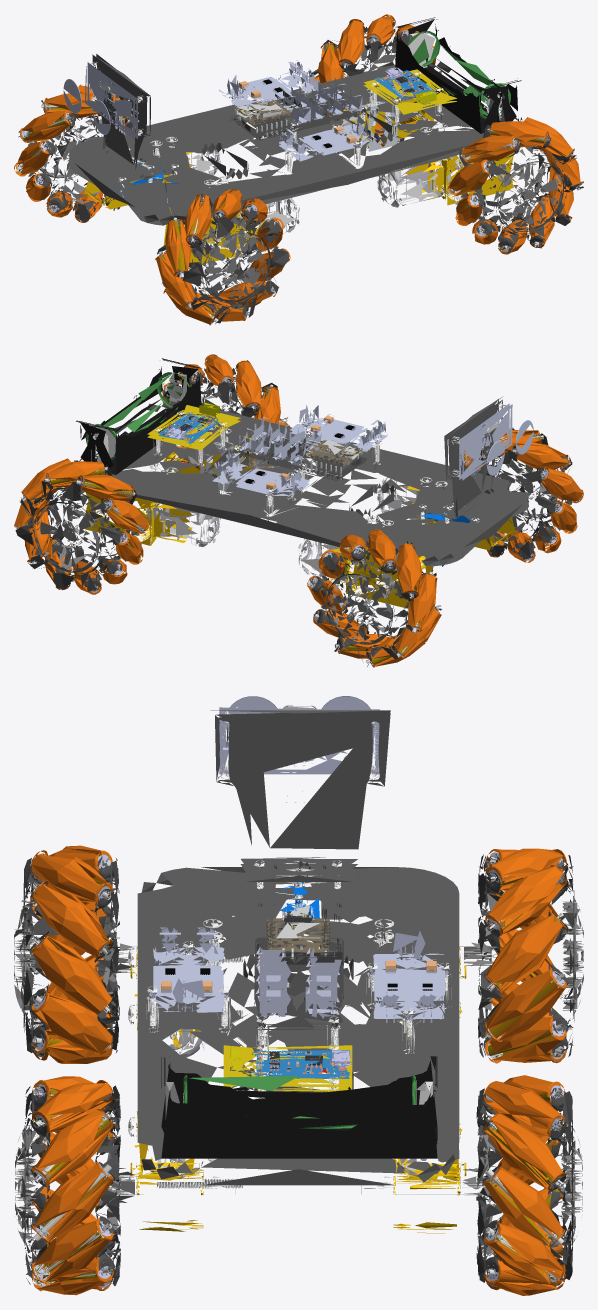
File: robot-low.glb
The picture shows the model from 3 angles, top to bottom: view 1: azimuth 30°, elevation 25°; view 2: azimuth 150°, elevation 25°; view 3: azimuth 270°, elevation 25°; orthographic projection. The views are drawn at different scales.
Visible parts, largest first — view 1: c8, c34, c10, c12, c35, c32, c19, c4, c18, c31, c7, c33 (+8 smaller); view 2: c8, c34, c10, c12, c35, c32, c19, c4, c18, c7, c31, c33 (+7 smaller); view 3: c8, c34, c10, c32, c12, c35, c33, c19, c17, c4, c7, c28 (+6 smaller).
Part boxes in pixels (x1,y1,x2,y2): c8: (69,54,519,225); c34: (14,14,583,325); c10: (18,20,583,324); c12: (16,16,581,323); c35: (35,44,562,302); c32: (395,17,521,133); c19: (83,96,516,267); c4: (186,74,504,251); c18: (160,105,451,242); c31: (407,31,510,118); c7: (363,69,456,114); c33: (16,20,578,317); c8: (79,396,528,566); c34: (14,354,583,667); c10: (15,360,582,666); c12: (16,356,581,665); c35: (35,380,559,643); c32: (76,358,201,474); c19: (85,436,515,608); c4: (93,378,424,592); c18: (146,445,419,584); c7: (147,405,240,450); c31: (85,372,189,459); c33: (24,363,568,664); c8: (137,710,459,1185); c34: (31,845,566,1295); c10: (23,854,574,1286); c32: (161,1056,437,1158); c12: (33,696,564,1287); c35: (14,894,583,1255); c33: (34,852,563,1287); c19: (130,946,466,1233); c17: (32,705,565,1284); c4: (108,946,491,1195); c7: (223,1045,352,1091); c28: (251,1050,349,1078).
Size of the model in its own units: 0.216 by 0.0992 by 0.1595.
